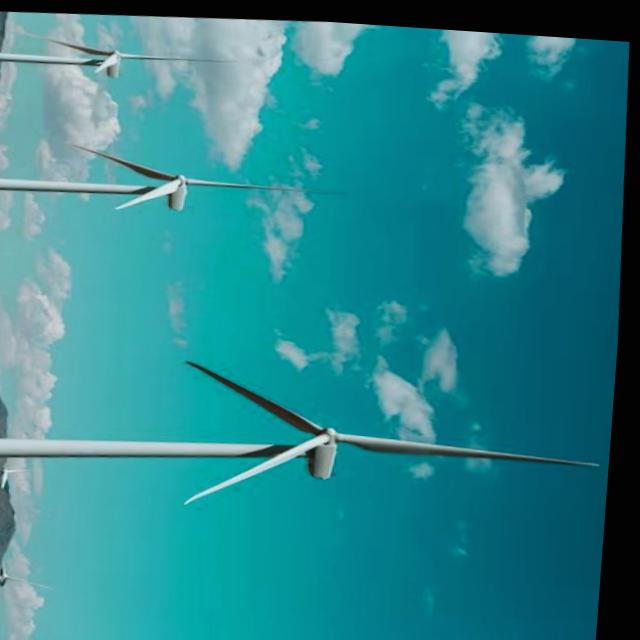solid-blade: (192, 427, 338, 501), (192, 359, 330, 429), (341, 428, 604, 457), (75, 145, 178, 178), (118, 178, 183, 207), (188, 176, 322, 185)
